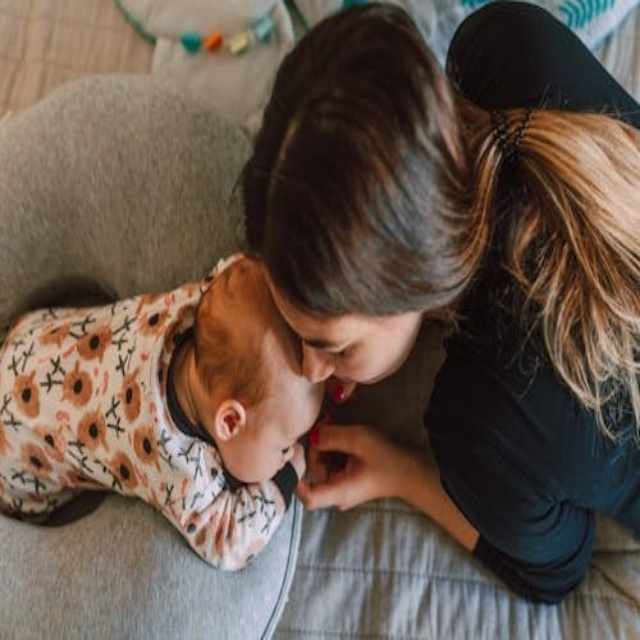Sin_gafas: (283, 313, 361, 361)
Sin_guantes: (294, 420, 421, 517)
Sin_mascara: (308, 361, 371, 396)
